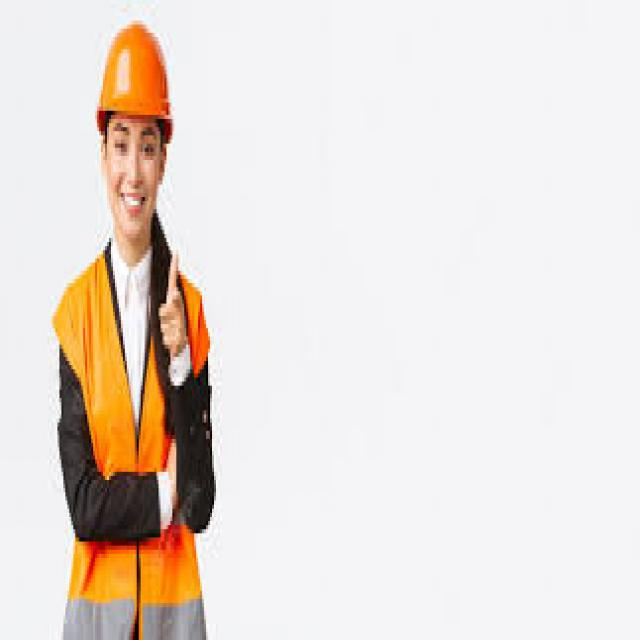Reflective-Jacket: (50, 250, 216, 620)
Safety-Helmet: (93, 16, 176, 136)
